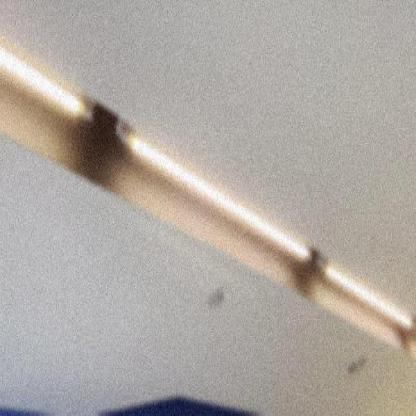light_on: (110, 114, 312, 270), (317, 236, 415, 341), (0, 32, 95, 135)
